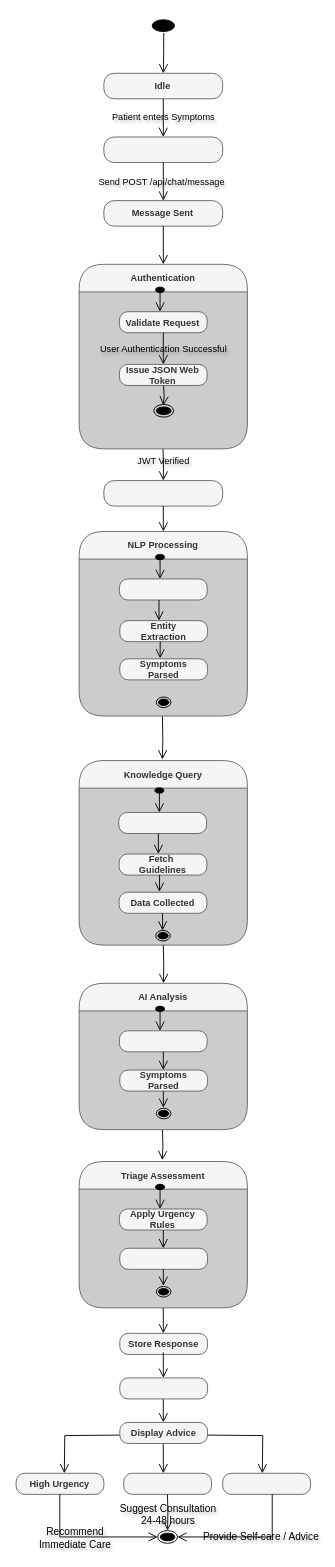
This 335x1567 diagram has some shape labels left out. Here are the shapes that lost their labels. From the top down, the centre of each, then its label:
At (163,149): "Symptoms Entered".
At (163,493): "Context Attached".
At (162,589): "Text Analysis".
At (162,823): "Query Symptom Database".
At (162,1041): "Analyze Symptoms".
At (163,1258): "Urgency Determined".
At (163,1388): "Response Prepared".
At (167,1483): "Medium Urgency".
At (266,1483): "Low Urgency".
